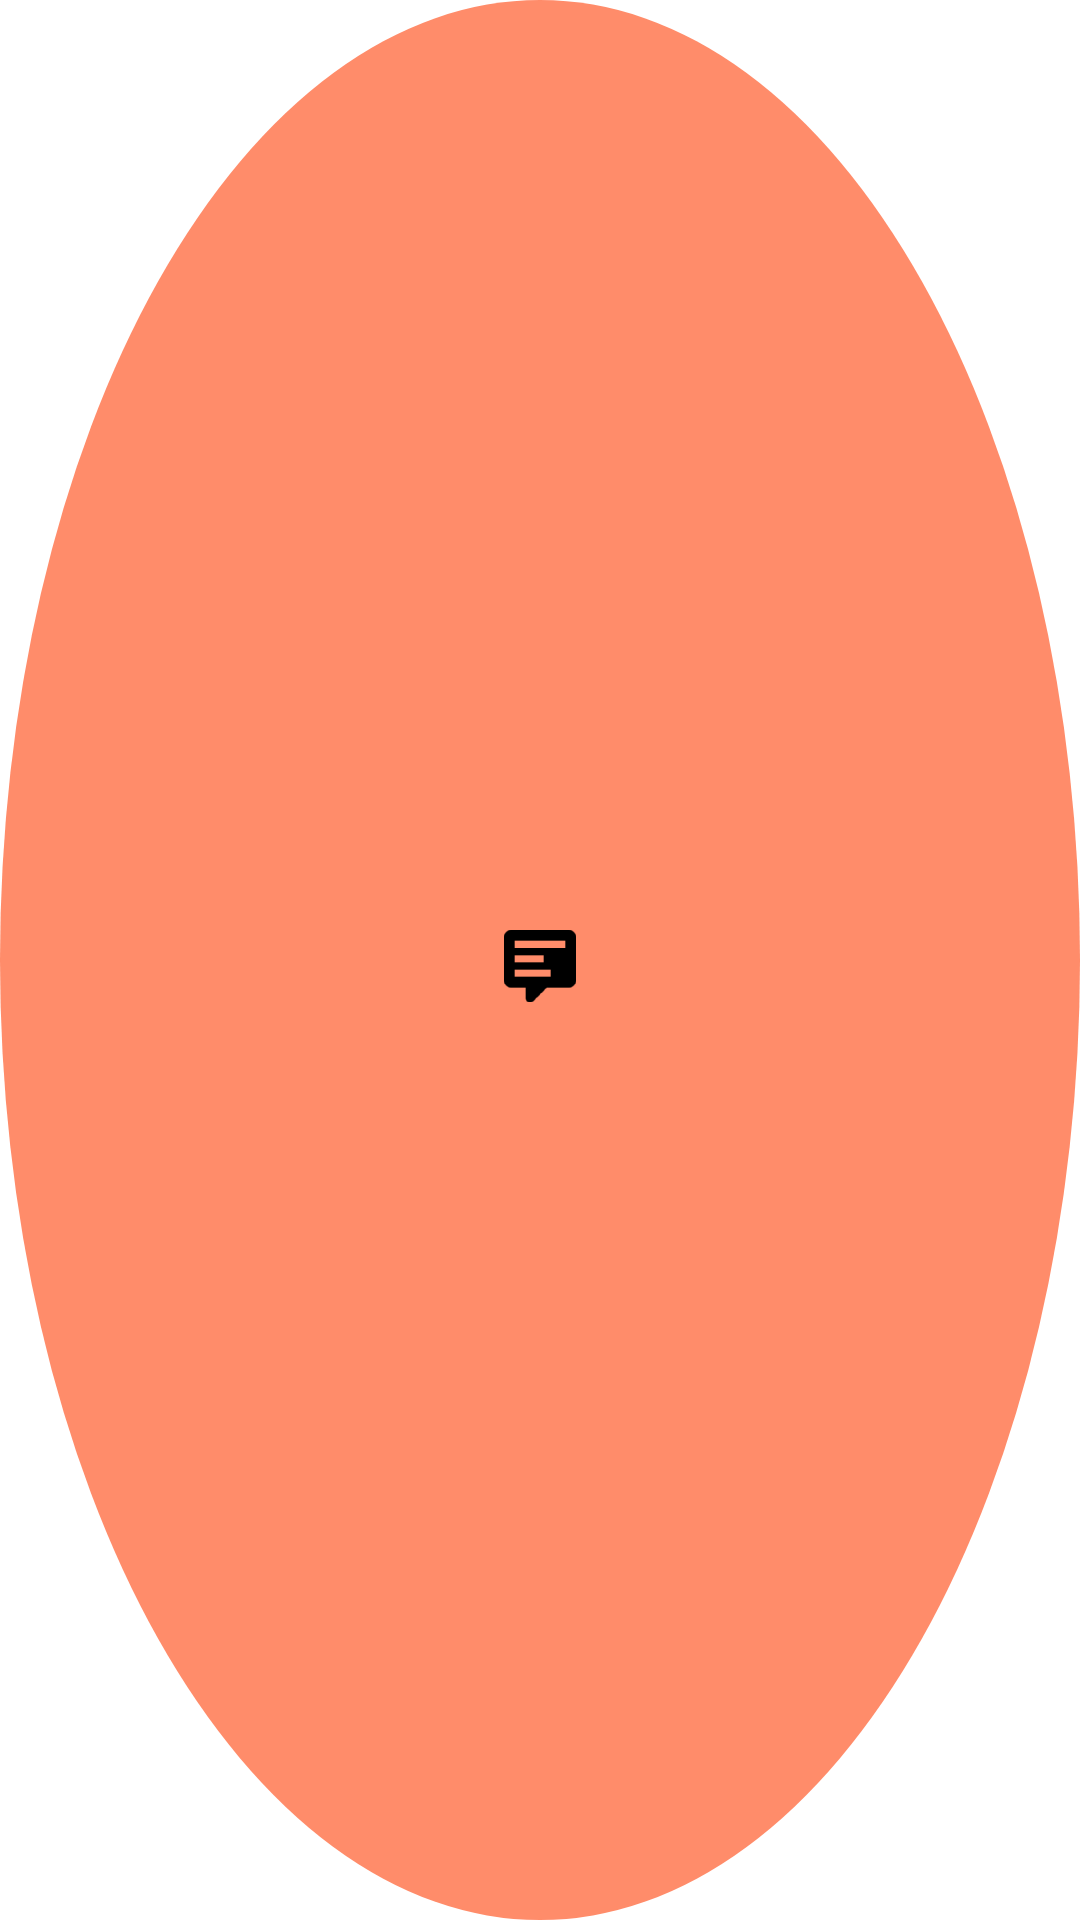

Icons on this 1080*1920 Android screen, each with its box as (x1, y1, x2, y2):
text: (504, 930, 576, 1002)
